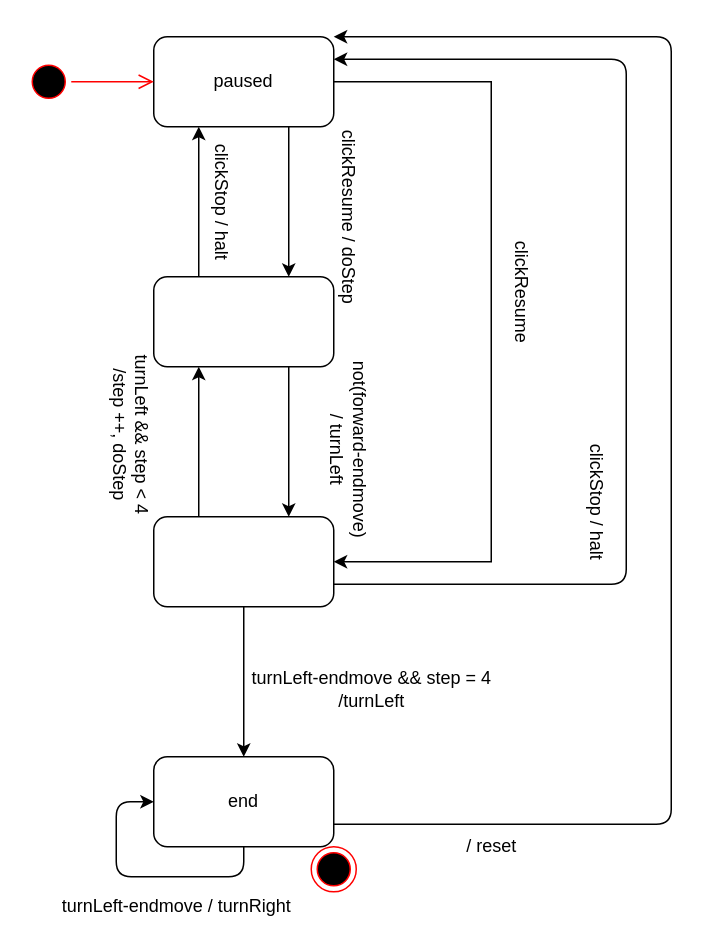
This 710x948 diagram has some shape labels left out. Here are the shapes that lost their labels. From the top down, the centre of each, then its label:
At (243,321): "walking".
At (243,561): "obstacle".
